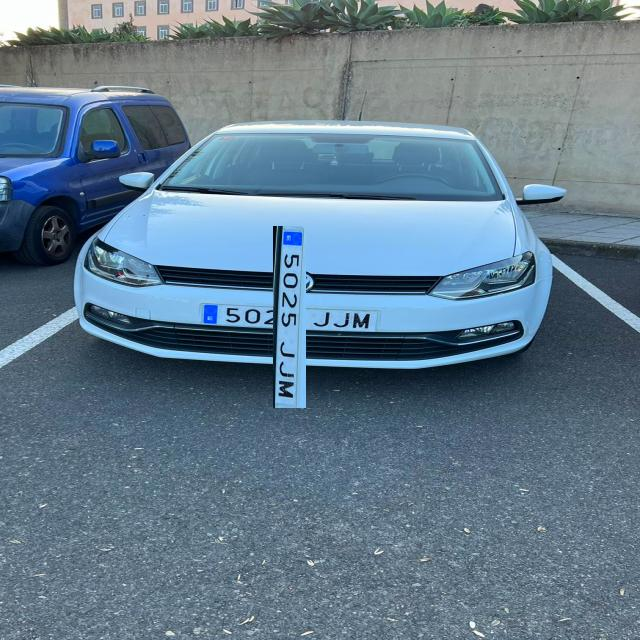License-Plate: (235, 263, 343, 371)
